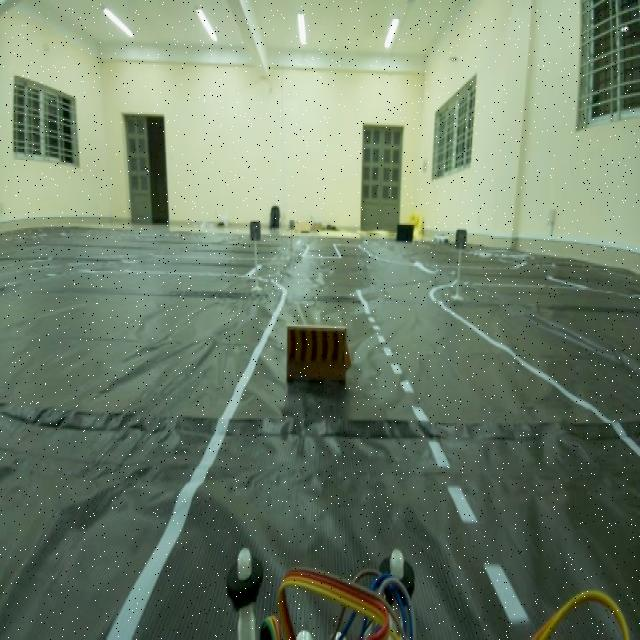roadblock: (280, 314, 356, 406)
